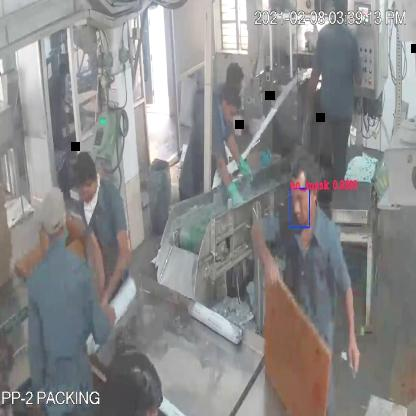no_glove: (335, 266, 365, 383), (104, 216, 135, 310), (248, 216, 282, 293)
